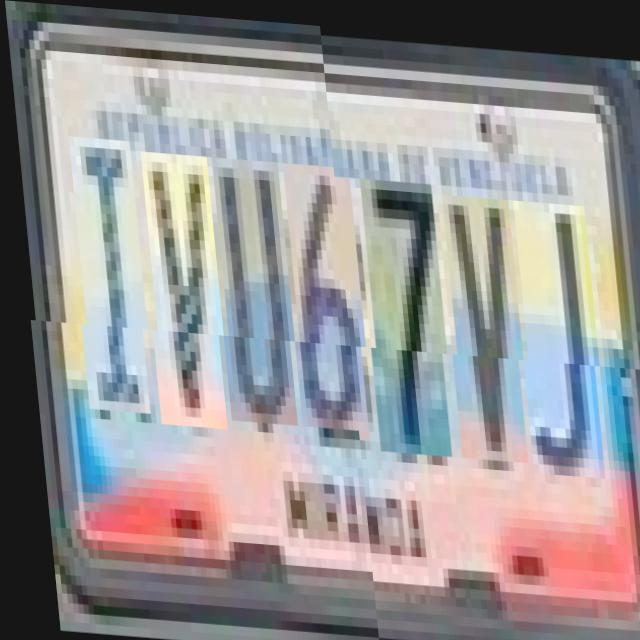6: (280, 168, 366, 436)
7: (356, 172, 448, 450)
I: (66, 144, 148, 422)
J: (510, 192, 602, 469)
U: (210, 164, 296, 432)
V: (138, 159, 225, 436), (438, 188, 524, 456)
